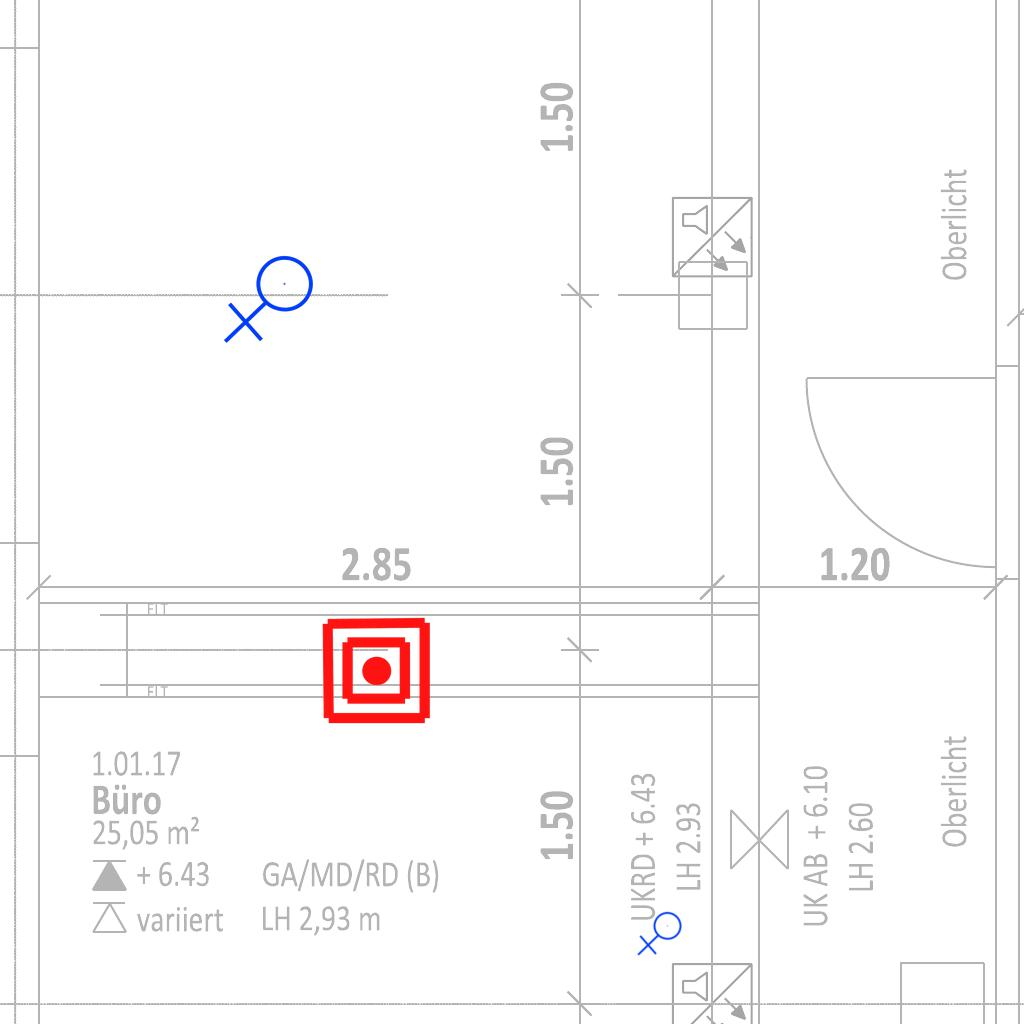Elektroanschluss_allgemein_230V_Geraeteanschlussdose_230V: (223, 254, 322, 348), (637, 911, 686, 958)
NAM-Nichtautomatischer_Melder: (320, 614, 433, 727)
